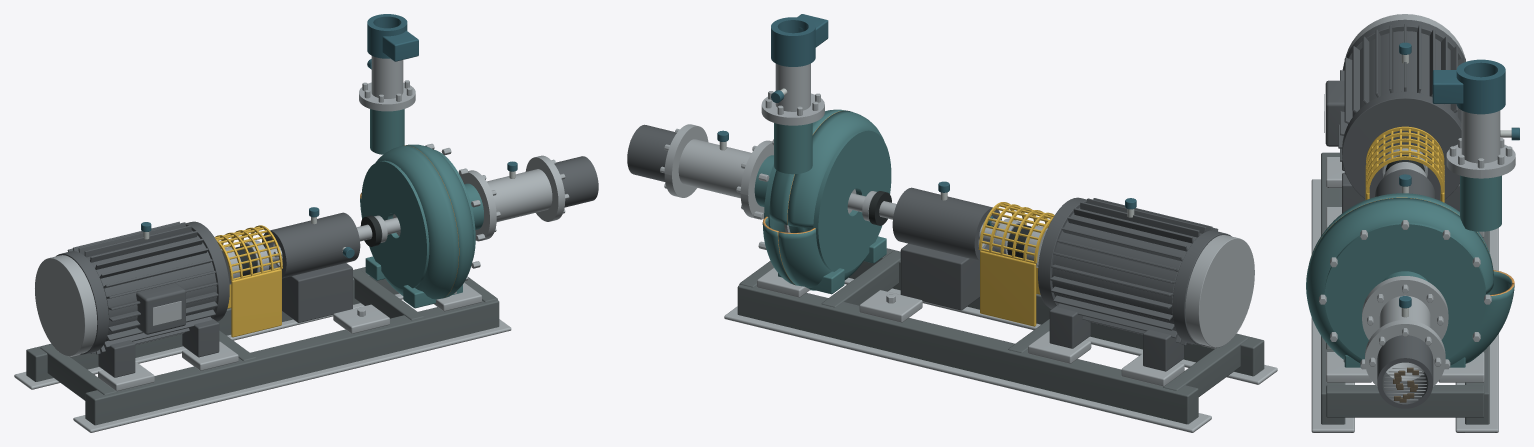
The model's file is p101-teaching.glb.
3 views of the same model, side by side, from view 1: azimuth 30°, elevation 25°; view 2: azimuth 150°, elevation 25°; view 3: azimuth 270°, elevation 25° (orthographic). The views are drawn at different scales.
Visible parts, largest first — view 1: GEO_BASE_RAIL, GEO_CASING_BACKPLATE, GEO_VOLUTE_REAR, GEO_MOTOR_FAN_COVER, GEO_MOTOR_BODY, GEO_BEARING_PEDESTAL, GEO_BASE_FLANGE, GEO_BEARING_HOUSING_UPPER, GEO_GUARD_LEG, GEO_VOLUTE_FRONT, GEO_BASE_RAIL.001, GEO_SUCTION_PIPE_SECTION (+26 smaller); view 2: GEO_BASE_RAIL.001, GEO_CASING_BACKPLATE, GEO_MOTOR_BODY, GEO_MOTOR_FAN_COVER, GEO_VOLUTE_REAR, GEO_BEARING_PEDESTAL, GEO_BASE_FLANGE.001, GEO_BEARING_HOUSING_UPPER, GEO_GUARD_LEG.001, GEO_BASE_RAIL, GEO_SUCTION_PIPE_REAR, GEO_VOLUTE_FRONT (+29 smaller); view 3: GEO_CASING_FRONTPLATE, GEO_VOLUTE_FRONT, GEO_MOTOR_END.001, GEO_CROSS_MEMBER.003, GEO_MOTOR_BODY, GEO_SUCTION_FLANGE, GEO_FLOW_METER_BODY, GEO_BASE_FLANGE, GEO_STRAINER_FLANGE, GEO_BASE_FLANGE.001, GEO_BASE_RAIL, GEO_STRAINER_BODY_SECTION (+37 smaller).
Part boxes in pixels (box(x1,y1,x2,y2)): GEO_BASE_RAIL: box(85, 299, 499, 425); GEO_CASING_BACKPLATE: box(361, 160, 429, 289); GEO_VOLUTE_REAR: box(360, 145, 458, 299); GEO_MOTOR_FAN_COVER: box(35, 255, 97, 356); GEO_MOTOR_BODY: box(82, 230, 216, 344); GEO_BEARING_PEDESTAL: box(282, 263, 352, 322); GEO_BASE_FLANGE: box(73, 319, 511, 432); GEO_BEARING_HOUSING_UPPER: box(262, 212, 360, 263); GEO_GUARD_LEG: box(231, 269, 281, 337); GEO_VOLUTE_FRONT: box(404, 144, 473, 297); GEO_BASE_RAIL.001: box(26, 267, 399, 381); GEO_SUCTION_PIPE_SECTION: box(488, 170, 552, 221); GEO_BASE_RAIL.001: box(737, 284, 1198, 424); GEO_CASING_BACKPLATE: box(812, 130, 891, 272); GEO_MOTOR_BODY: box(1052, 207, 1201, 334); GEO_MOTOR_FAN_COVER: box(1185, 235, 1254, 347); GEO_VOLUTE_REAR: box(778, 110, 884, 290); GEO_BEARING_PEDESTAL: box(900, 243, 979, 310); GEO_BASE_FLANGE.001: box(724, 306, 1211, 432); GEO_BEARING_HOUSING_UPPER: box(892, 187, 1001, 244); GEO_GUARD_LEG.001: box(980, 250, 1036, 326); GEO_BASE_RAIL: box(849, 248, 1264, 376); GEO_SUCTION_PIPE_REAR: box(678, 141, 750, 198); GEO_VOLUTE_FRONT: box(762, 109, 845, 285); GEO_CASING_FRONTPLATE: box(1324, 222, 1485, 359); GEO_VOLUTE_FRONT: box(1306, 198, 1514, 365); GEO_MOTOR_END.001: box(1342, 91, 1461, 200); GEO_CROSS_MEMBER.003: box(1326, 385, 1484, 417); GEO_MOTOR_BODY: box(1348, 31, 1457, 124); GEO_SUCTION_FLANGE: box(1362, 276, 1448, 339); GEO_FLOW_METER_BODY: box(1456, 59, 1505, 114); GEO_BASE_FLANGE: box(1311, 179, 1354, 432); GEO_STRAINER_FLANGE: box(1365, 320, 1445, 386); GEO_BASE_FLANGE.001: box(1455, 228, 1498, 432); GEO_BASE_RAIL: box(1321, 152, 1345, 424); GEO_STRAINER_BODY_SECTION: box(1377, 335, 1405, 408).
Bounding box in the file's own units: 2.63 × 1.27 × 0.7415.
